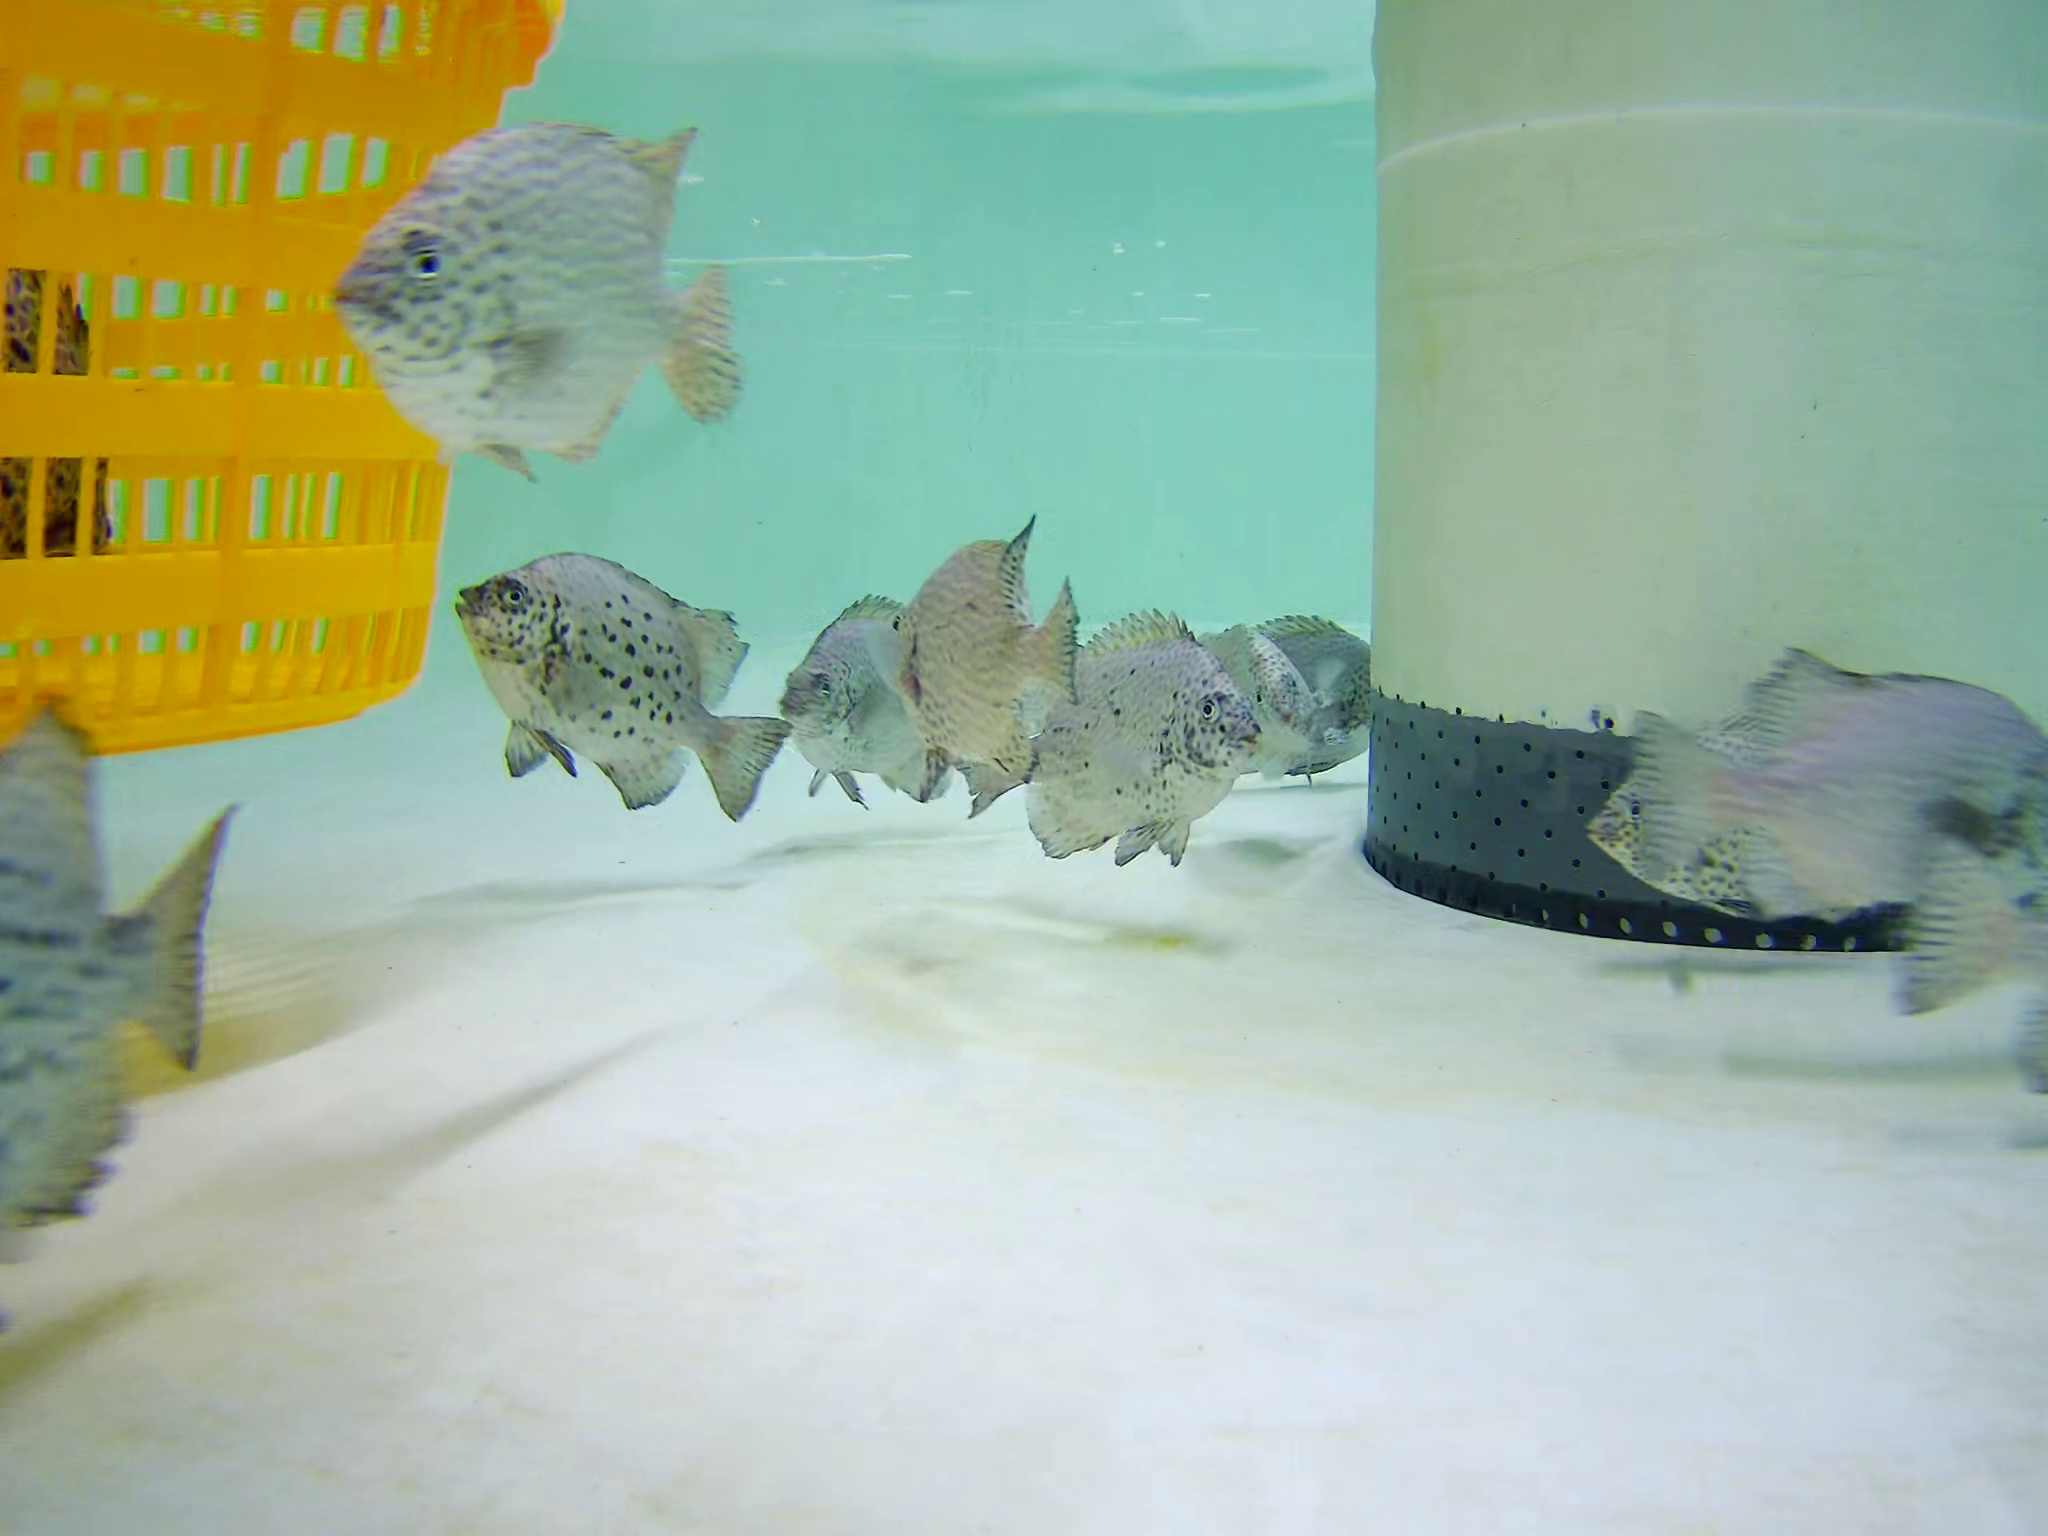fish: (2, 710, 250, 1254), (342, 115, 740, 447), (1629, 663, 2048, 916), (445, 550, 793, 834), (892, 518, 1092, 823), (1027, 608, 1259, 847), (1592, 715, 1871, 913), (779, 591, 947, 813), (2, 274, 118, 594), (1906, 836, 2048, 1039), (1171, 620, 1332, 776), (1208, 620, 1369, 774)
